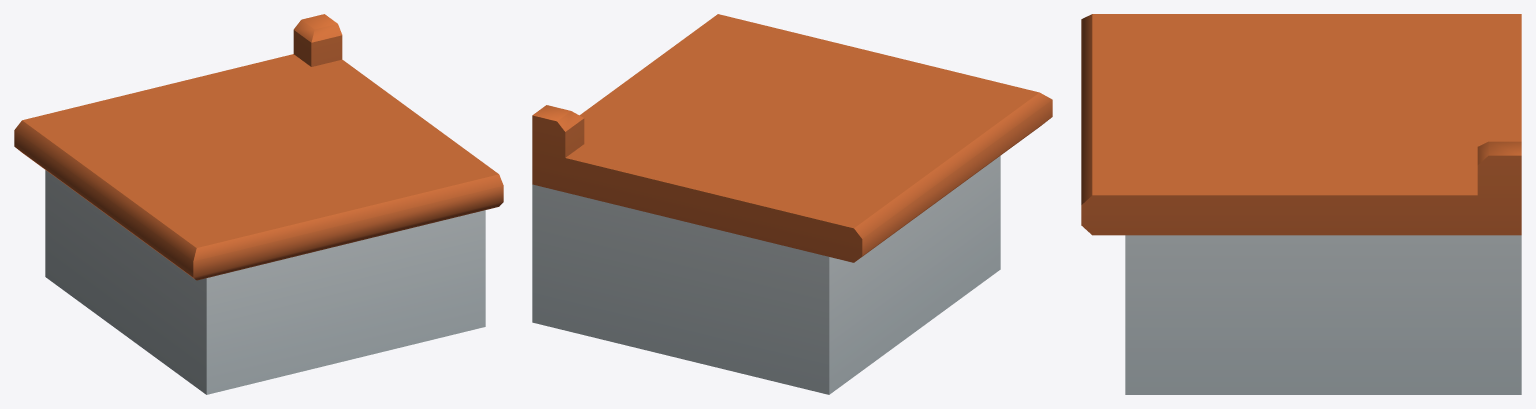
File: kay-kitchencounter_outercorner_backsplash.glb
3 renders of one model, left to right at view 1: azimuth 30°, elevation 25°; view 2: azimuth 150°, elevation 25°; view 3: azimuth 270°, elevation 25°, orthographic. The views are drawn at different scales.
Visible parts, largest first — view 1: kitchencounter_outercorner_backsplash; view 2: kitchencounter_outercorner_backsplash; view 3: kitchencounter_outercorner_backsplash.
Boxes of the visible parts, x1,y1,x2,y2 form: kitchencounter_outercorner_backsplash: (14, 14, 503, 394); kitchencounter_outercorner_backsplash: (532, 14, 1052, 394); kitchencounter_outercorner_backsplash: (1081, 14, 1521, 394).
Size of the model in its own units: 1.2 by 0.72 by 1.2.
1 material, 1 textured.
